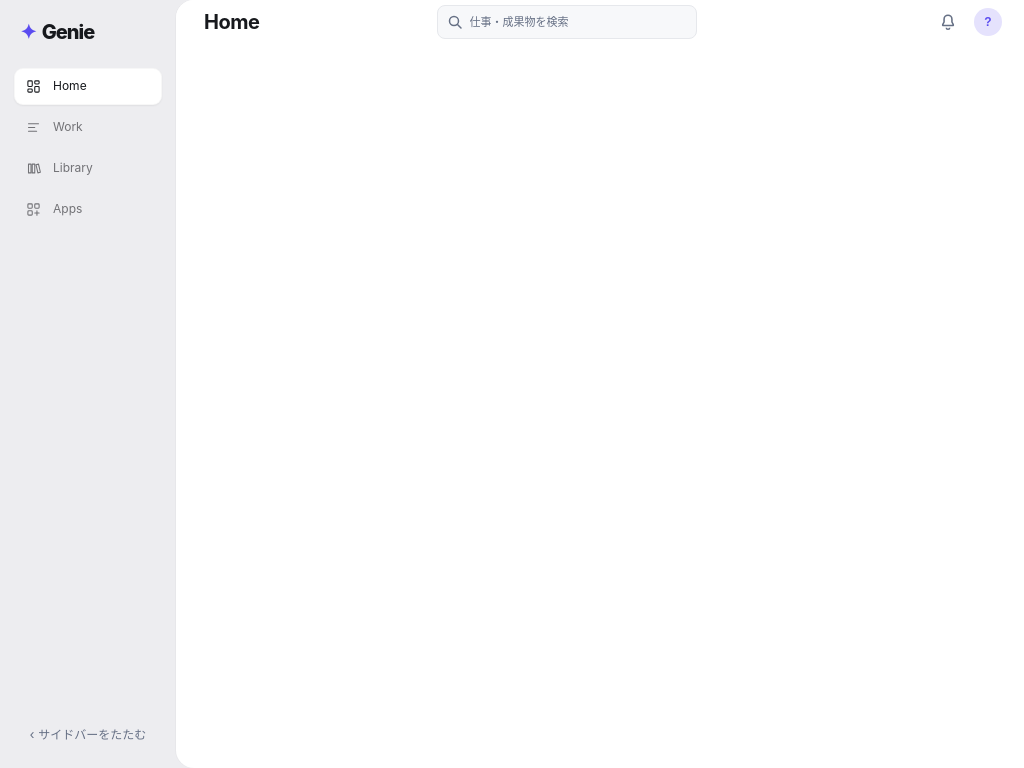
Test: top bar (§7.1) › keeps 外観 and 設定 inside the profile menu, not on the bar
Expected: the field labelled "外観" is not shown
Click the button named "アカウント": [988, 22] box x1=970 y1=0 x2=1006 y2=44
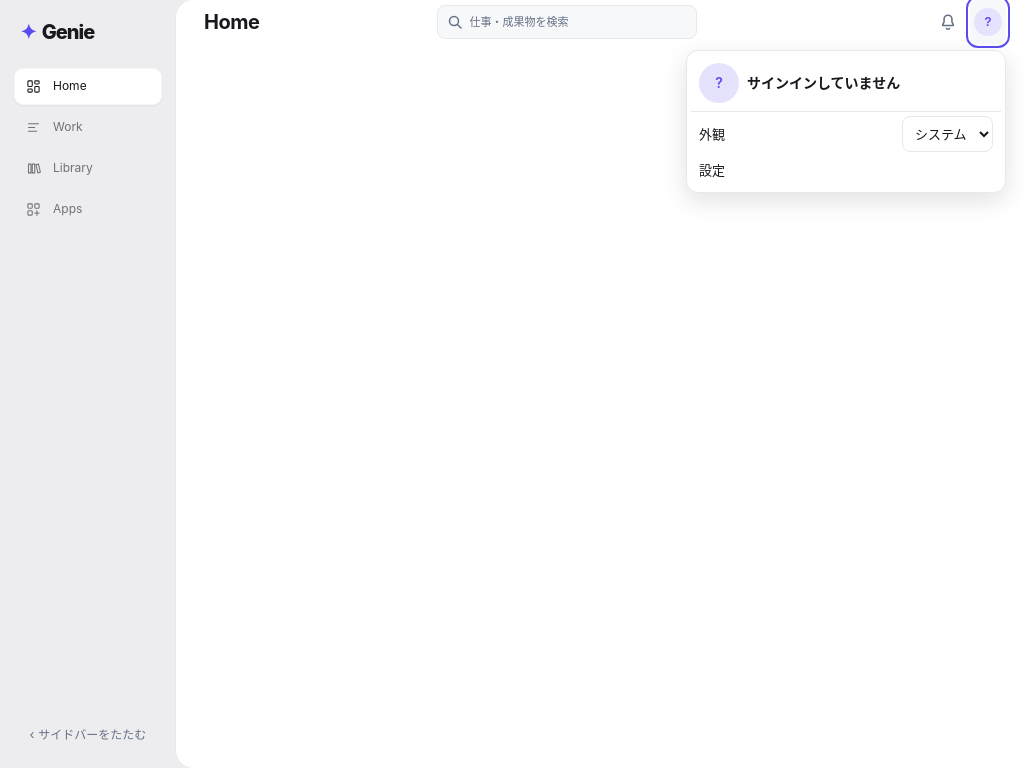
Expected: the dropdown labelled "外観" is shown, x1=902 y1=116 x2=993 y2=152
Click the button "設定": [712, 170] box x1=691 y1=152 x2=1001 y2=188
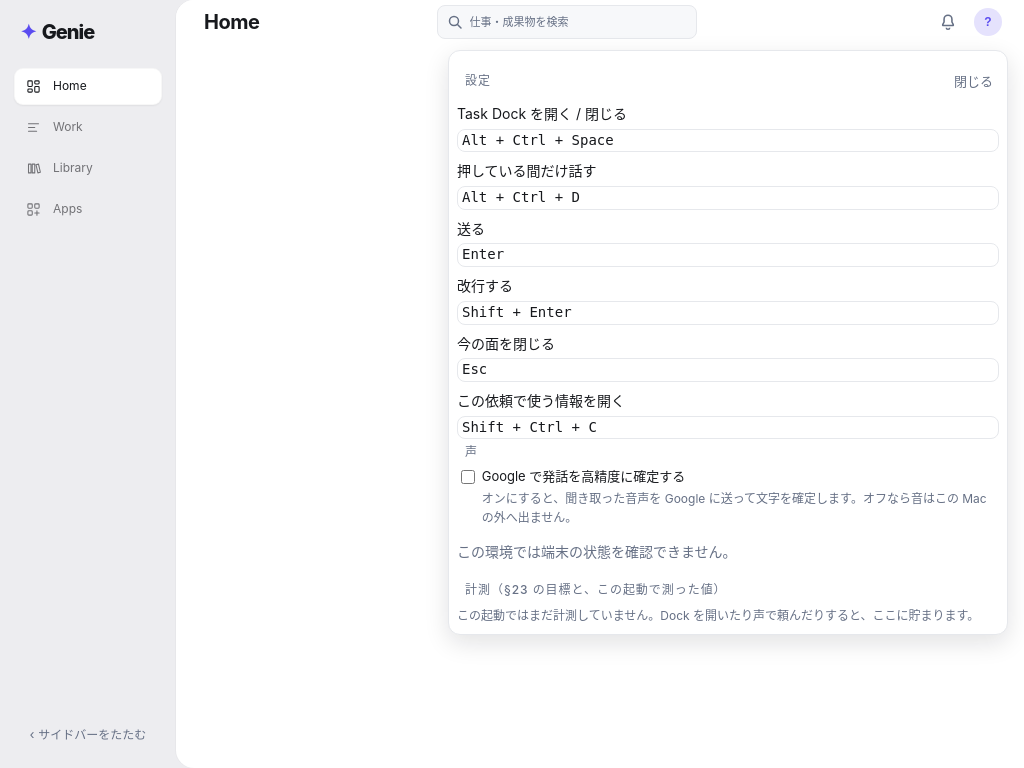
Expected: the element "設定" is shown, x1=448 y1=50 x2=1008 y2=635
